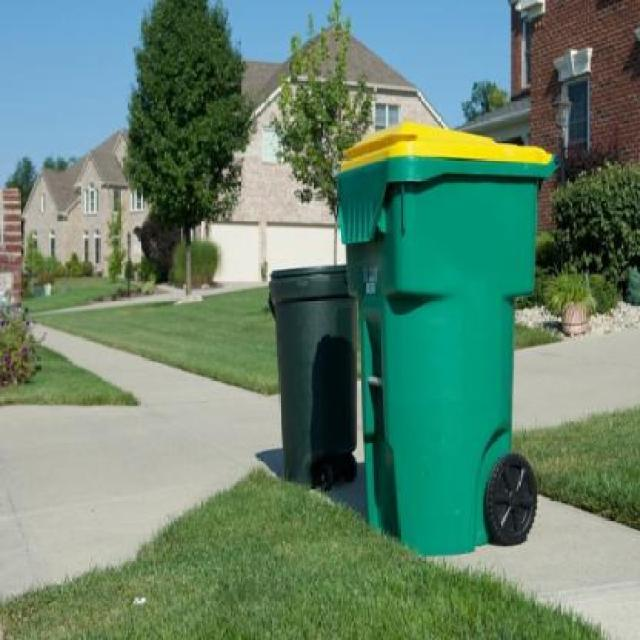garbage container: (332, 121, 558, 557), (263, 257, 366, 497)
